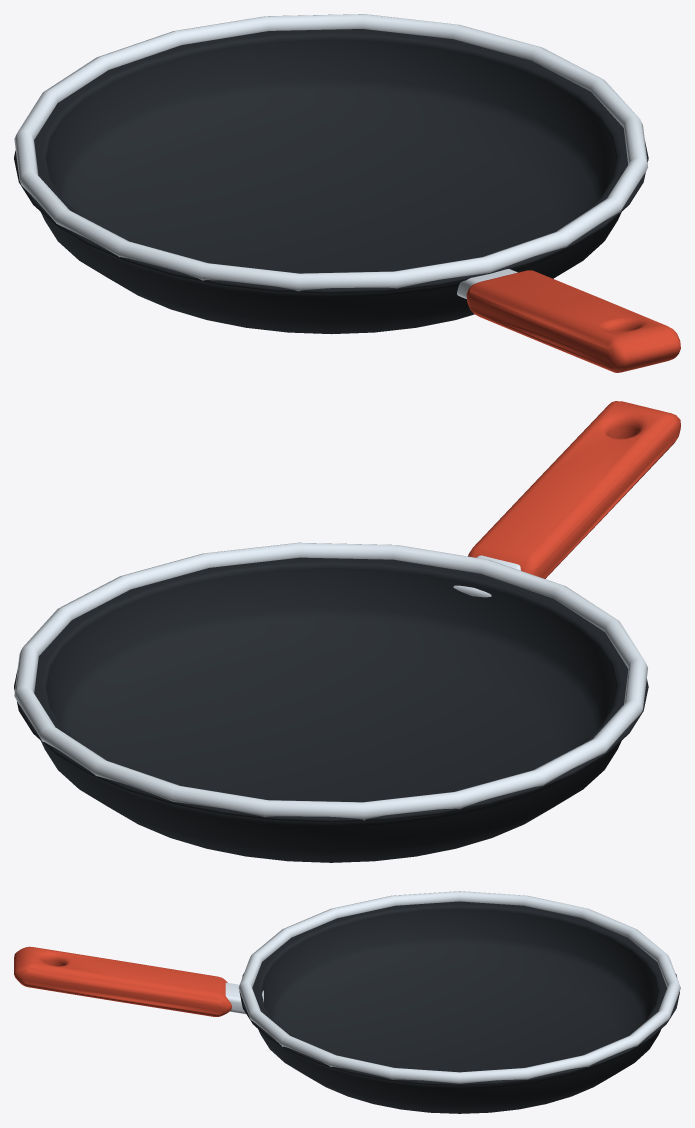
File: pan_B.glb
The picture shows the model from 3 angles, top to bottom: view 1: azimuth 30°, elevation 25°; view 2: azimuth 150°, elevation 25°; view 3: azimuth 270°, elevation 25°; orthographic projection. The views are drawn at different scales.
Parts seen in each view (by area): view 1: PanSkilletBowl; view 2: PanSkilletBowl; view 3: PanSkilletBowl.
Part boxes in pixels (left/top/right/bottom): PanSkilletBowl: left=14, top=14, right=680, bottom=372; PanSkilletBowl: left=14, top=401, right=680, bottom=862; PanSkilletBowl: left=14, top=891, right=680, bottom=1113.
Bounding box in the file's own units: 0.644 × 0.1443 × 0.9707.
